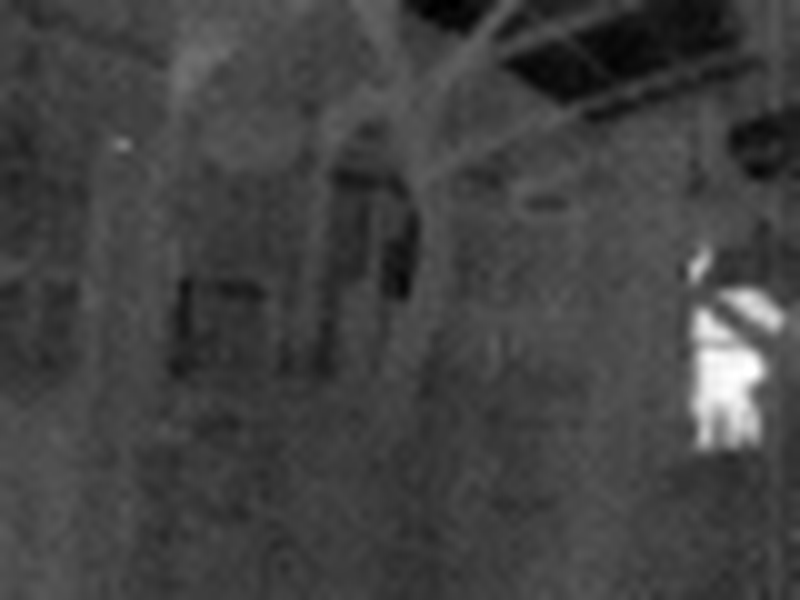elephant: (623, 233, 784, 435)
